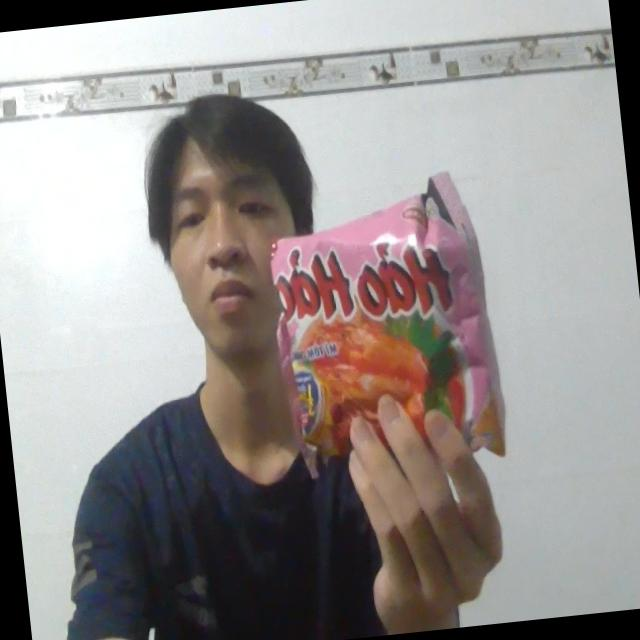mi hao hao: (221, 130, 547, 526)
